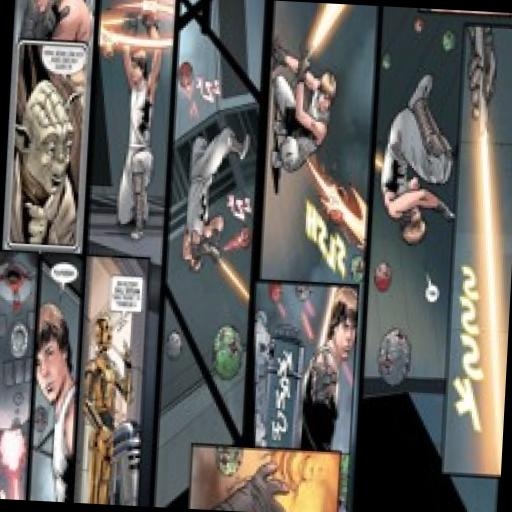lightsaber: (454, 26, 512, 469), (293, 2, 349, 86)
